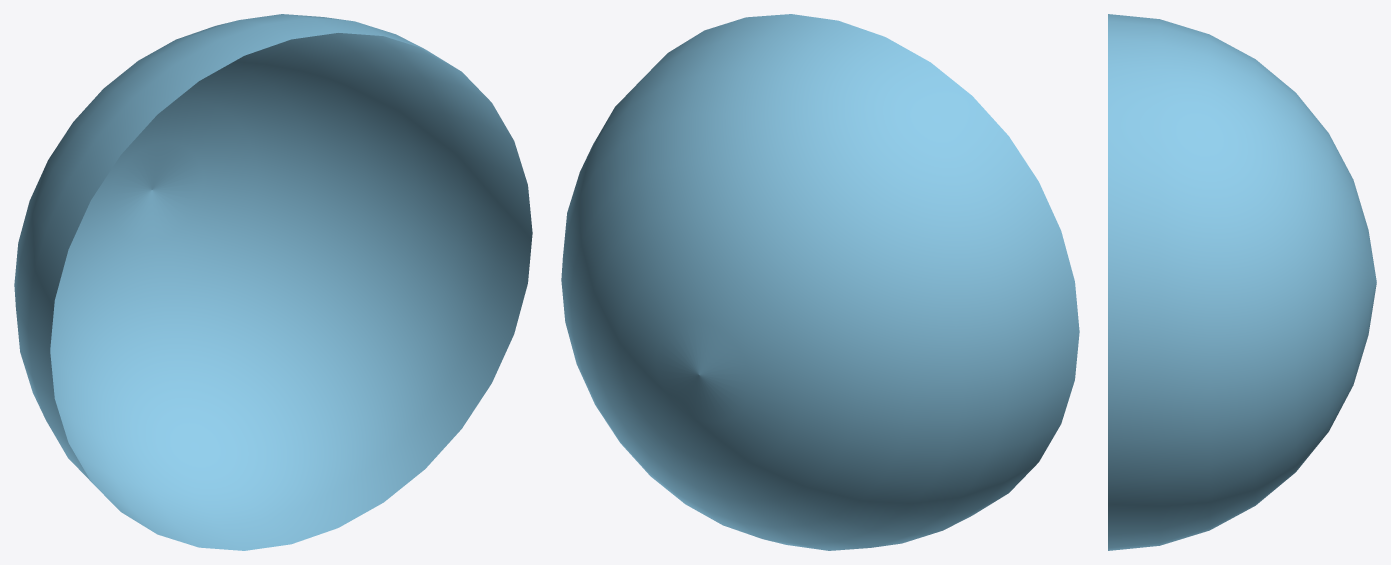
Rendered from Sky.fbx.
3 views of the same model, side by side, from view 1: azimuth 30°, elevation 25°; view 2: azimuth 150°, elevation 25°; view 3: azimuth 270°, elevation 25° (orthographic). The views are drawn at different scales.
Visible parts, largest first — view 1: Sphere; view 2: Sphere; view 3: Sphere.
Boxes of the visible parts, x1=… form: Sphere: x1=14, y1=14, x2=532, y2=550; Sphere: x1=561, y1=14, x2=1079, y2=550; Sphere: x1=1108, y1=14, x2=1376, y2=550.
Size of the model in its own units: 2000000 by 2000000 by 1000000.
